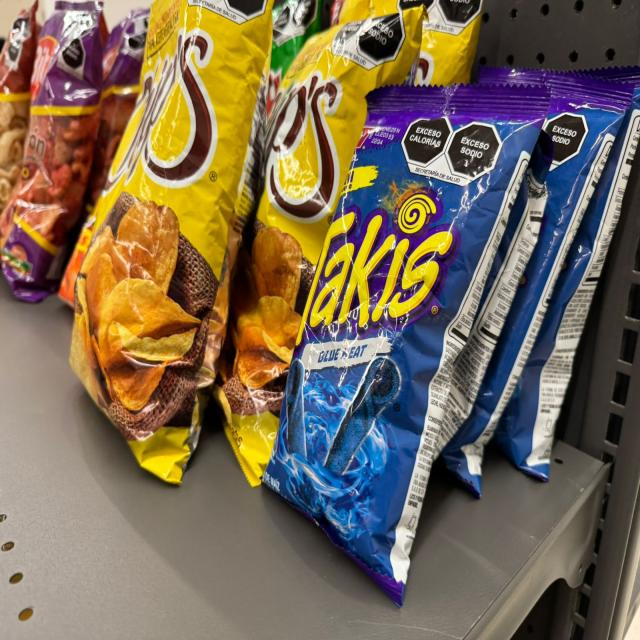Chicharron de Cerdo Natural Bitz 120 gr: (0, 5, 45, 213)
Papas Chips Barcel 170 gr bolsa con sal: (63, 4, 280, 498), (214, 5, 436, 478), (342, 0, 495, 80)
RUFFLES QUESO 185GR: (258, 3, 324, 100)
Takis Blue 75g: (262, 81, 550, 605), (453, 92, 634, 496), (426, 134, 566, 487), (517, 129, 640, 491)
chicharrones de cerdo intenso: (3, 4, 110, 301), (94, 1, 153, 185)
